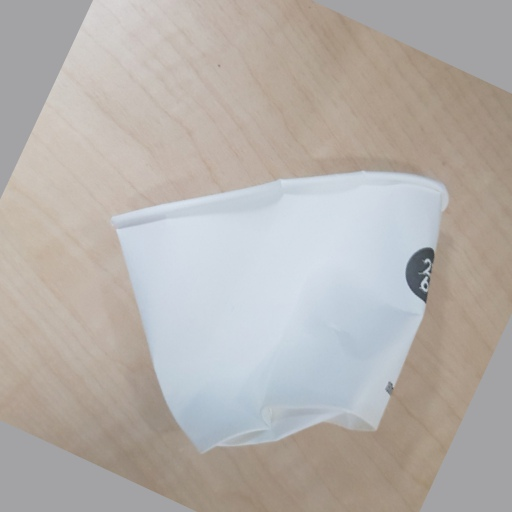Paper_1: (105, 168, 453, 450)
